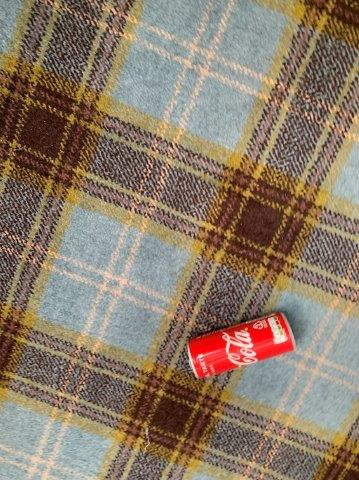kaleng: (188, 313, 294, 377)
